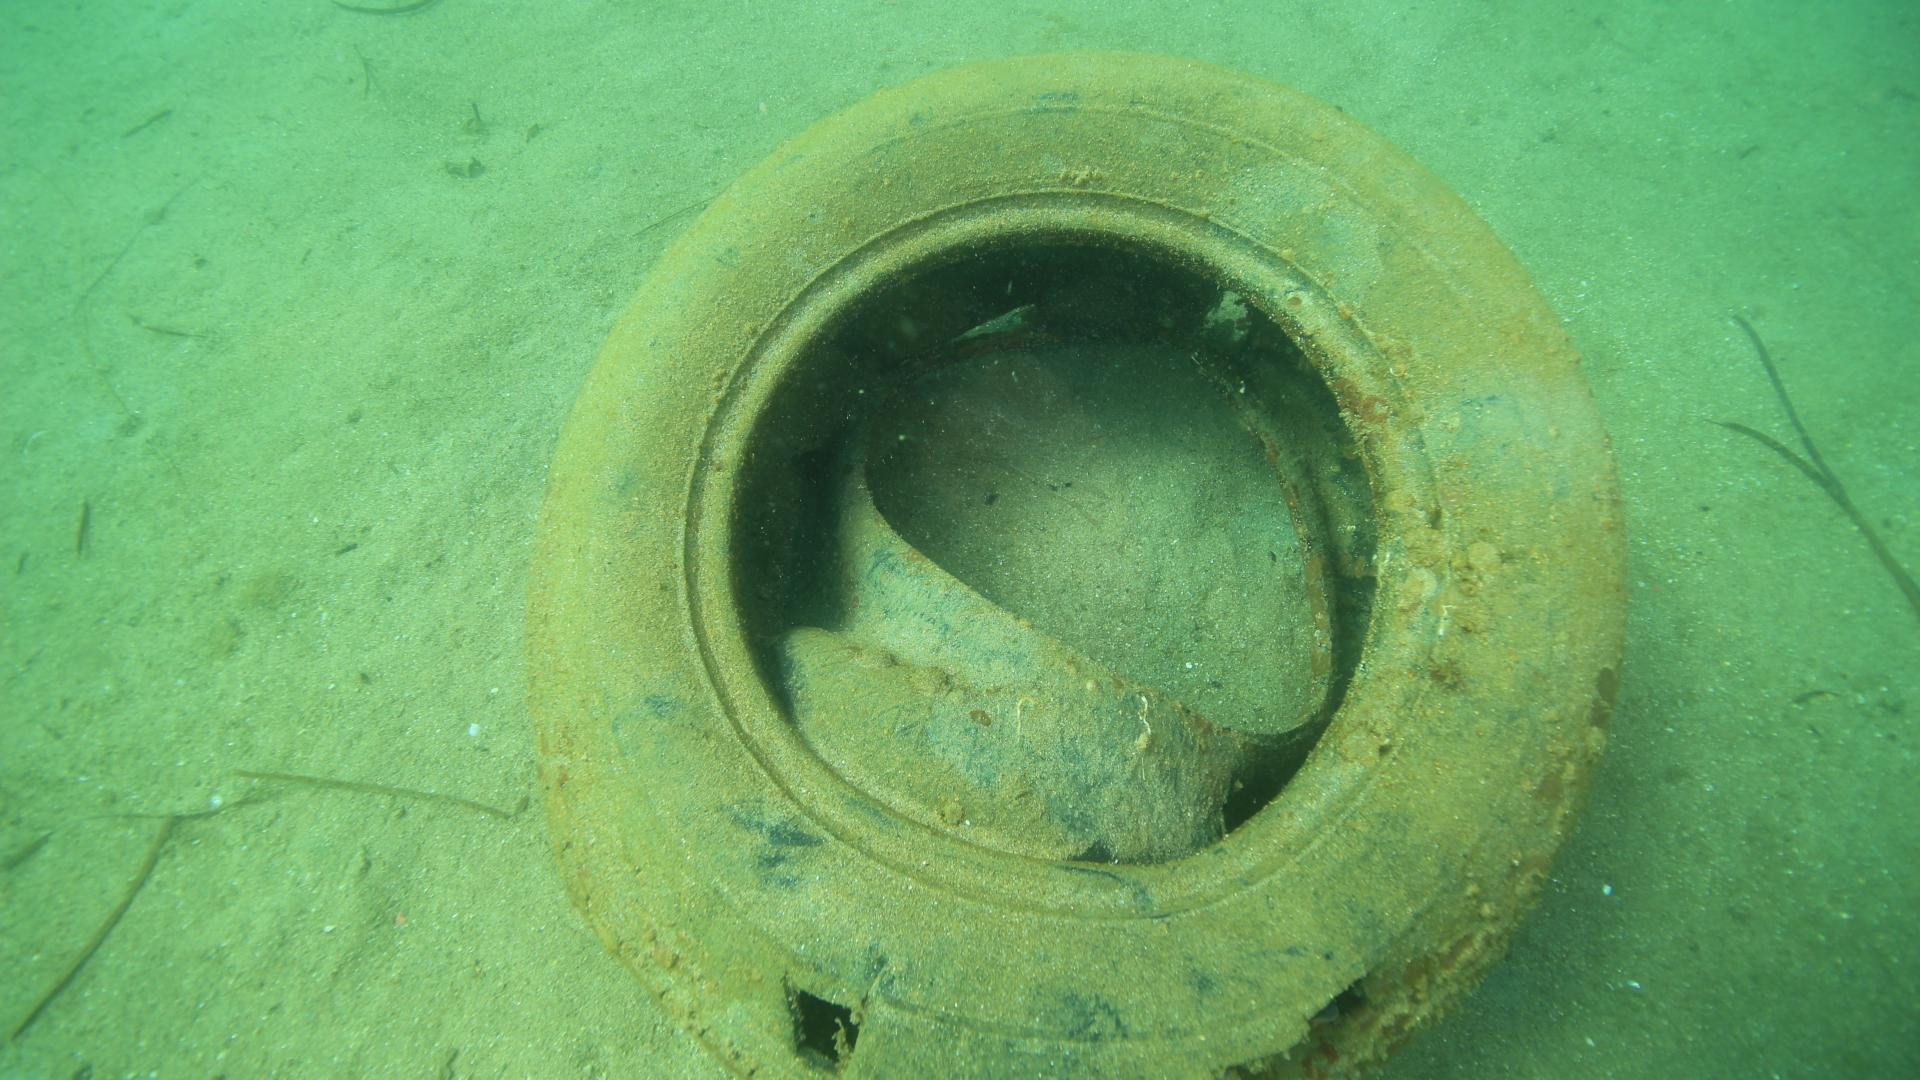tire: (524, 38, 1633, 1080)
